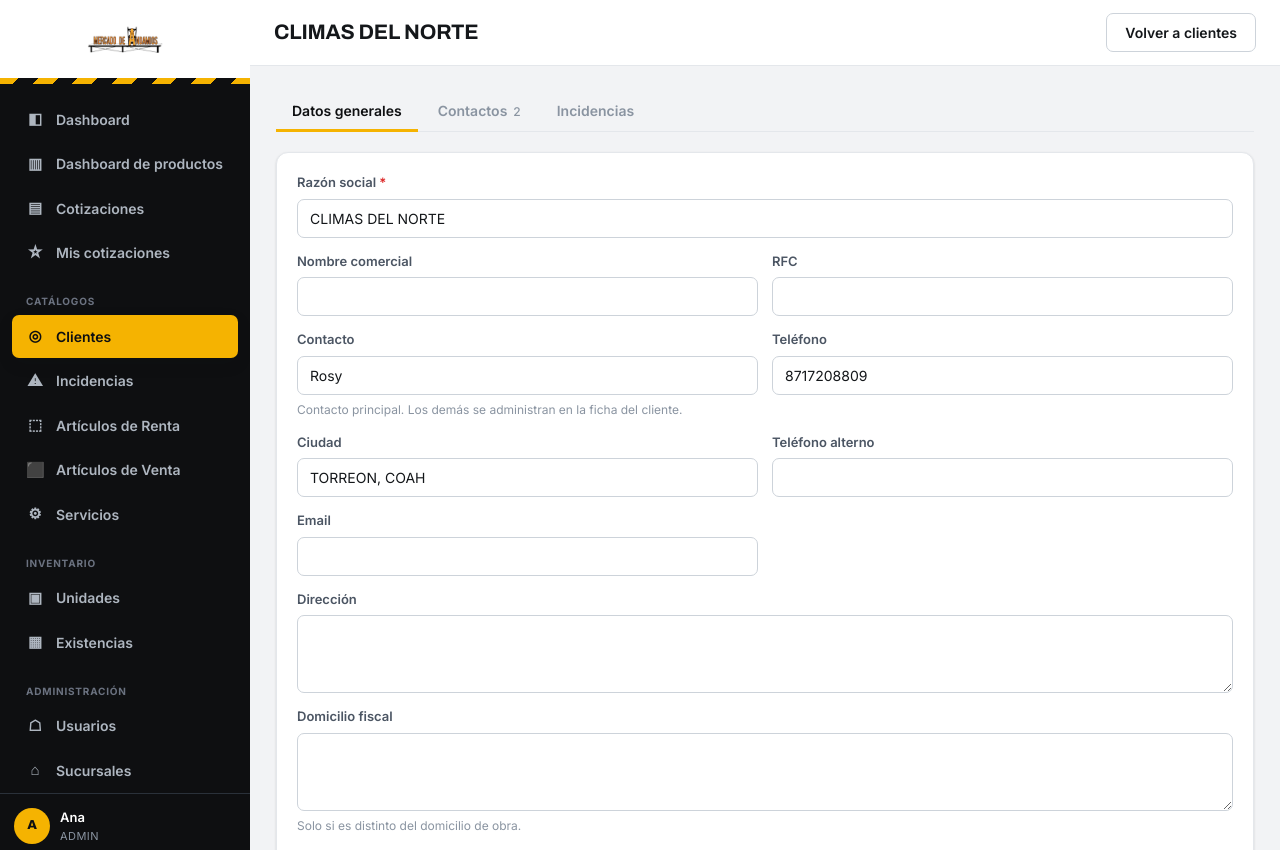
ClienteDetalle — contactos › lista los contactos y marca cuál es el principal
The width and height of the screenshot is (1280, 850).
Click the button "Contactos2": (479, 112) [422,92,537,132]
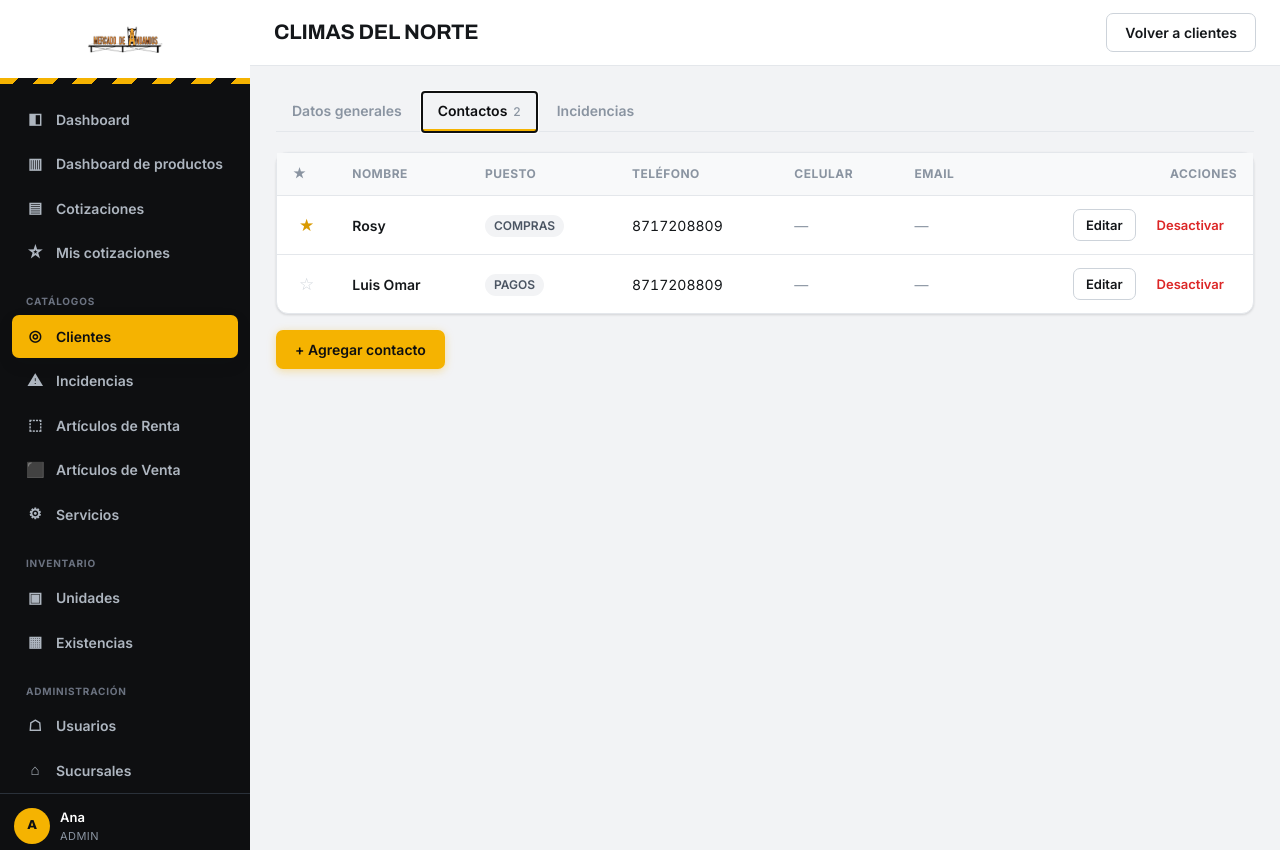
Expected: the text "Rosy" is shown, [352,216,386,234]
Expected: the text "Luis Omar" is shown, [352,276,421,292]
Expected: the button named "Contacto principal" is disabled, [293,214,320,236]
